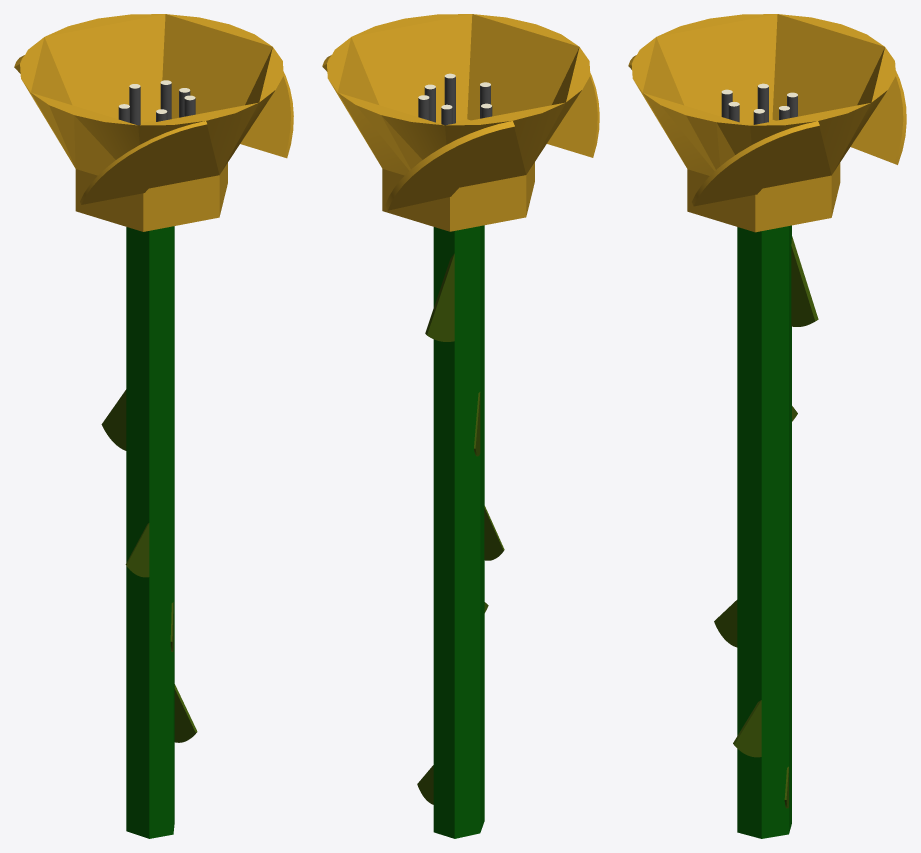
File: flower_3_yellow.dae
3 views of the same model, side by side, from view 1: azimuth 30°, elevation 25°; view 2: azimuth 150°, elevation 25°; view 3: azimuth 270°, elevation 25° (orthographic).
Visible parts, largest first — view 1: SketchUp (×5); view 2: SketchUp (×4); view 3: SketchUp (×5).
Boxes of the visible parts, bbox=[...] form: SketchUp (×5): bbox=[14, 14, 293, 838]; SketchUp (×4): bbox=[322, 14, 599, 838]; SketchUp (×5): bbox=[628, 14, 906, 838].
Size of the model in its own units: 77.15 by 78.42 by 236.
